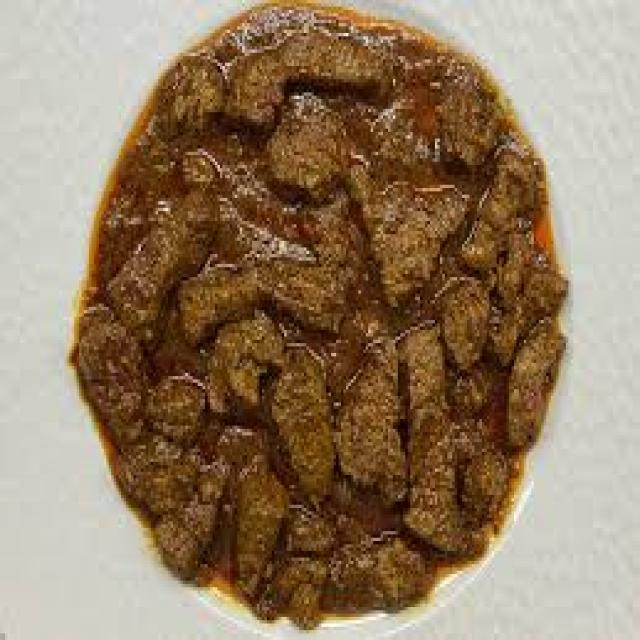kamouniya: (91, 36, 566, 634)
